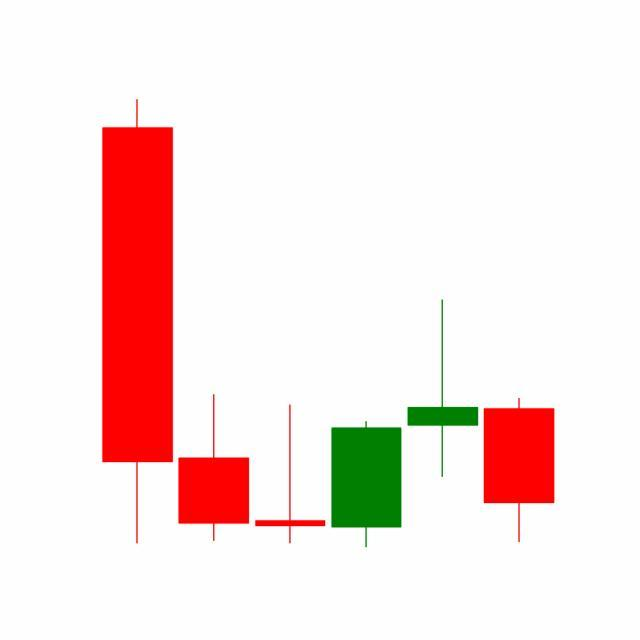Three Outside Up-Down: (252, 296, 482, 549)
